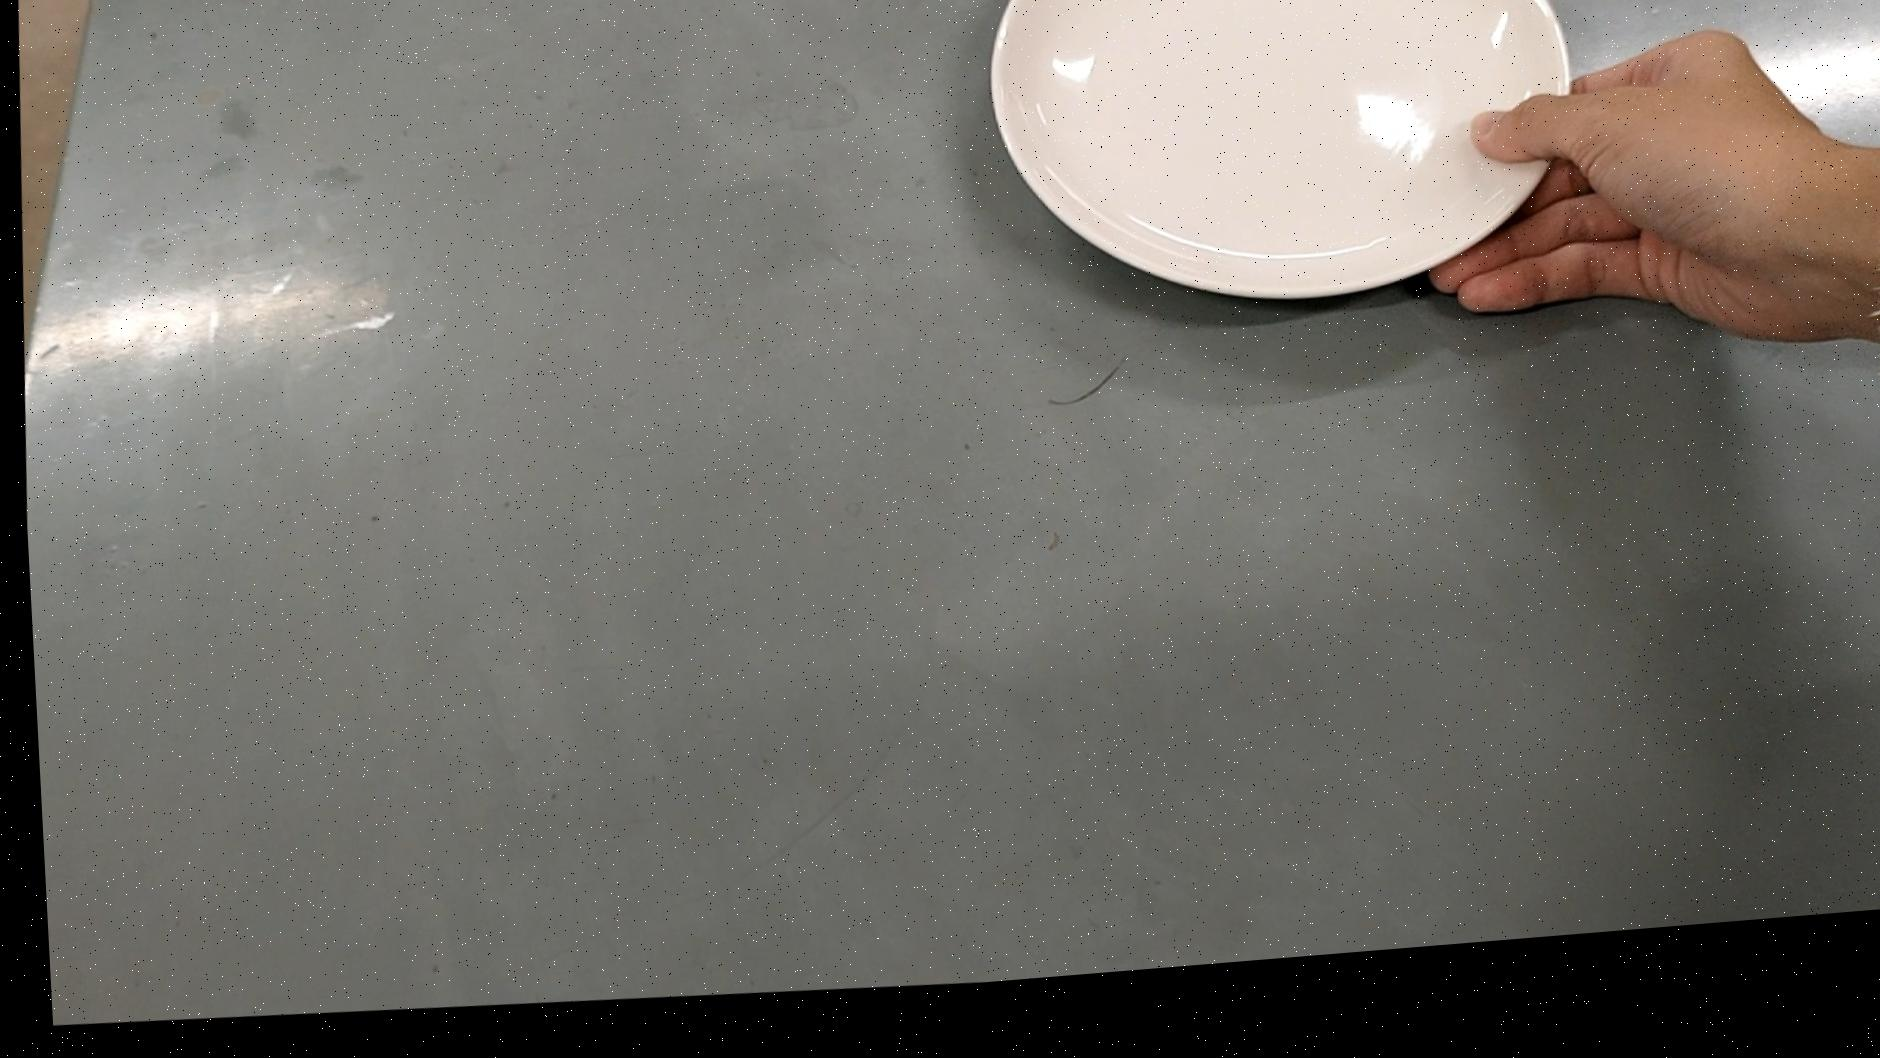plate: (972, 0, 1578, 351)
